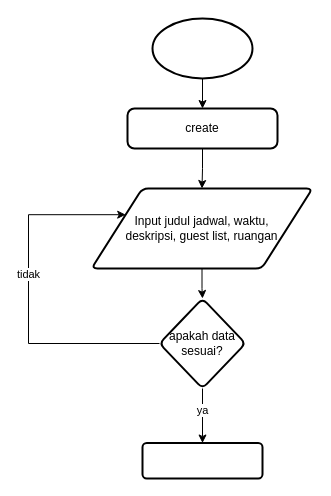
Image size: 331x496. Some labels were removed from this diagram. The shapes that lost their labels are listed below. From the top down, each one's centre as x and y in pixels, then its label:
the point at 202,48: start
the point at 202,460: save
